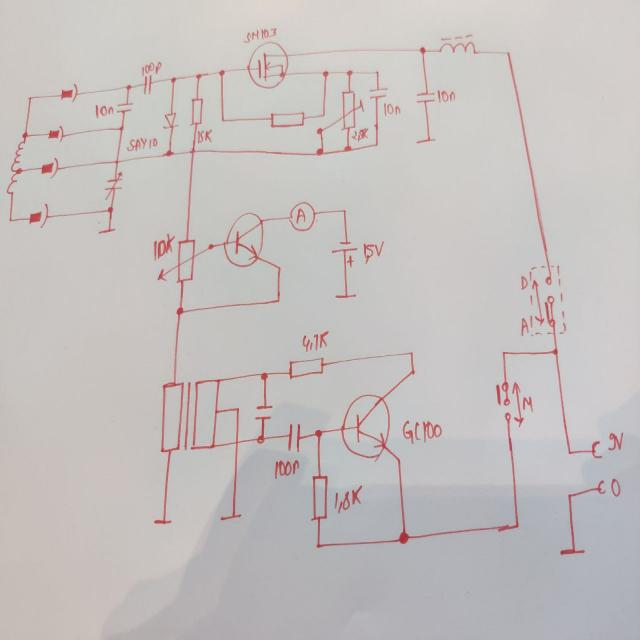capacitor: (103, 168, 123, 199), (286, 420, 302, 452), (252, 401, 274, 422), (414, 88, 434, 105), (368, 85, 388, 100), (116, 99, 133, 114), (142, 73, 152, 96)
crossover: (232, 436, 240, 447), (113, 156, 121, 166), (188, 147, 196, 155)
diode: (162, 111, 180, 130)
ground: (558, 542, 586, 560), (218, 510, 242, 523), (152, 514, 172, 527), (334, 290, 356, 301), (416, 133, 436, 145), (96, 226, 116, 235)
inductor: (436, 30, 478, 61), (9, 139, 25, 173), (5, 170, 19, 196)
junction: (396, 528, 410, 546), (255, 432, 266, 446), (564, 489, 574, 502), (259, 369, 269, 382), (174, 304, 184, 316), (315, 145, 325, 156), (418, 44, 427, 56), (164, 147, 174, 157), (314, 427, 322, 439), (513, 519, 521, 531), (105, 204, 114, 214), (551, 345, 559, 356), (408, 365, 416, 376), (274, 294, 282, 305), (504, 47, 512, 58), (20, 130, 28, 141), (194, 71, 202, 81), (169, 74, 177, 84), (6, 214, 14, 224), (15, 166, 23, 176), (343, 143, 351, 152), (217, 68, 225, 77), (565, 447, 573, 456), (321, 69, 329, 78), (345, 68, 353, 77), (125, 82, 132, 91), (314, 540, 321, 549), (499, 348, 506, 357), (26, 93, 33, 101), (234, 404, 240, 413), (118, 124, 124, 132), (407, 349, 413, 357), (373, 140, 379, 148), (275, 263, 281, 271), (396, 455, 402, 463), (220, 116, 226, 123), (341, 207, 347, 214), (320, 111, 326, 118), (374, 68, 379, 76)
resistor: (155, 236, 213, 284), (316, 88, 364, 135), (287, 355, 325, 380), (309, 472, 328, 521), (268, 109, 304, 129), (189, 95, 203, 127)
source: (330, 239, 358, 269)
switch: (528, 264, 568, 337), (494, 378, 524, 427)
terminal: (590, 439, 603, 459), (596, 478, 606, 495)
text: (401, 417, 443, 444), (332, 483, 363, 514), (300, 329, 330, 354), (151, 231, 175, 262), (244, 25, 278, 43), (272, 457, 300, 478), (125, 135, 159, 152), (362, 239, 384, 265), (606, 430, 624, 451), (140, 60, 162, 77), (93, 104, 115, 118), (436, 88, 456, 103), (521, 392, 534, 415), (195, 127, 212, 144), (382, 101, 402, 115), (351, 127, 369, 141), (519, 312, 529, 337), (610, 477, 622, 497), (519, 273, 528, 290)
transformer: (159, 376, 221, 454)
transistor: (340, 393, 390, 462), (222, 211, 264, 268), (246, 40, 289, 89)
